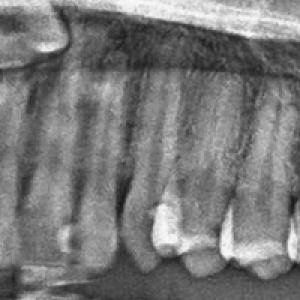tooth: (151, 120, 233, 276), (222, 167, 296, 283), (121, 105, 172, 270), (29, 83, 69, 258), (73, 114, 118, 264)
